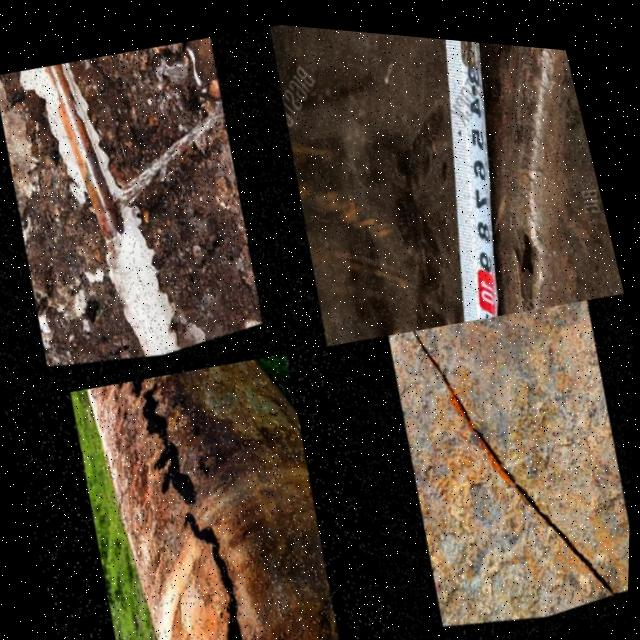crack: (410, 321, 627, 591)
hole: (172, 496, 254, 608), (139, 426, 216, 527), (500, 216, 556, 295), (132, 375, 189, 452), (211, 596, 282, 640), (130, 375, 155, 404), (195, 454, 218, 482), (189, 417, 207, 443), (113, 378, 136, 398), (125, 374, 154, 386), (120, 403, 135, 425), (115, 404, 127, 417), (114, 390, 125, 404)
rupture: (107, 197, 123, 227)
